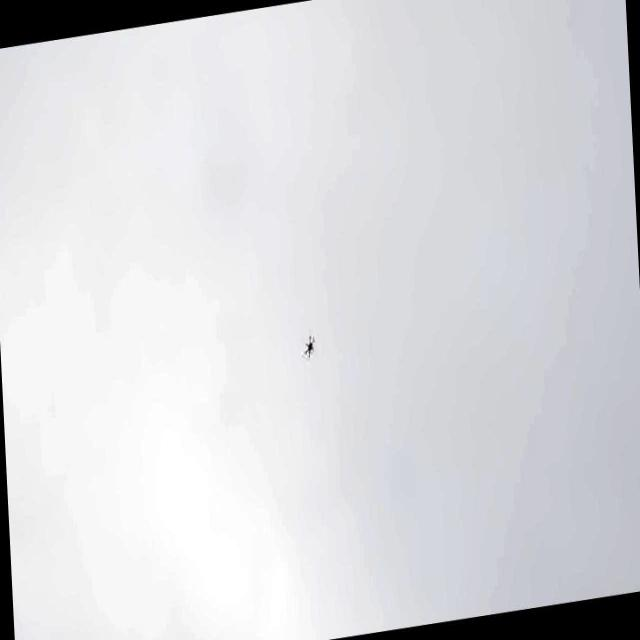drone: (299, 331, 321, 364)
